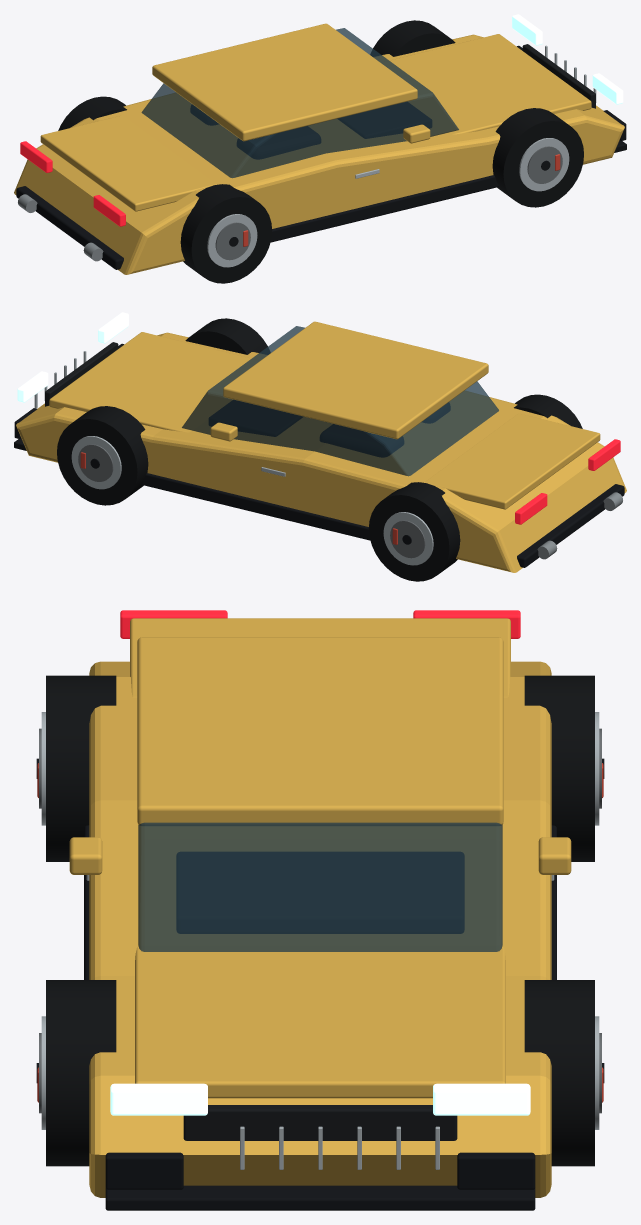
Rendered from lambo_diablo_2000.glb.
The picture shows the model from 3 angles, top to bottom: view 1: azimuth 30°, elevation 25°; view 2: azimuth 150°, elevation 25°; view 3: azimuth 270°, elevation 25°; orthographic projection. The views are drawn at different scales.
Visible parts, largest first — view 1: sculpted_body, roof, glasshouse, hood_center, rear_deck, front_right_wheel_tire, rear_right_wheel_tire, side_skirt_1, dashboard, front_left_wheel_tire, rear_diffuser, seat_1 (+11 smaller); view 2: sculpted_body, roof, glasshouse, hood_center, rear_deck, front_left_wheel_tire, rear_left_wheel_tire, side_skirt_-1, dashboard, front_right_wheel_tire, rear_diffuser, seat_-1 (+11 smaller); view 3: sculpted_body, roof, hood_center, glasshouse, dashboard, front_splitter, front_left_wheel_tire, front_right_wheel_tire, front_grille, rear_left_wheel_tire, rear_right_wheel_tire, rear_deck (+8 smaller).
Part boxes in pixels (x1=…): sculpted_body: x1=14, y1=34, x2=624, y2=274; roof: x1=152, y1=23, x2=417, y2=141; glasshouse: x1=141, y1=28, x2=458, y2=178; hood_center: x1=382, y1=34, x2=591, y2=134; rear_deck: x1=40, y1=115, x2=215, y2=211; front_right_wheel_tire: x1=492, y1=108, x2=583, y2=207; rear_right_wheel_tire: x1=180, y1=184, x2=272, y2=283; side_skirt_1: x1=270, y1=175, x2=499, y2=242; dashboard: x1=338, y1=102, x2=431, y2=138; front_left_wheel_tire: x1=370, y1=20, x2=455, y2=56; rear_diffuser: x1=16, y1=186, x2=123, y2=269; seat_1: x1=237, y1=126, x2=320, y2=158; sculpted_body: x1=16, y1=332, x2=626, y2=572; roof: x1=223, y1=321, x2=488, y2=439; glasshouse: x1=182, y1=326, x2=498, y2=476; hood_center: x1=49, y1=332, x2=258, y2=432; rear_deck: x1=425, y1=413, x2=600, y2=509; front_left_wheel_tire: x1=57, y1=406, x2=148, y2=505; rear_left_wheel_tire: x1=368, y1=482, x2=460, y2=581; side_skirt_-1: x1=141, y1=473, x2=370, y2=540; dashboard: x1=209, y1=400, x2=302, y2=436; front_right_wheel_tire: x1=185, y1=318, x2=270, y2=354; rear_diffuser: x1=517, y1=484, x2=624, y2=567; seat_-1: x1=320, y1=424, x2=403, y2=456; sculpted_body: x1=89, y1=661, x2=551, y2=1197; roof: x1=137, y1=637, x2=503, y2=825; hood_center: x1=135, y1=946, x2=505, y2=1098; glasshouse: x1=138, y1=822, x2=502, y2=951; dashboard: x1=177, y1=852, x2=463, y2=933; front_splitter: x1=105, y1=1185, x2=535, y2=1210; front_left_wheel_tire: x1=524, y1=980, x2=594, y2=1166; front_right_wheel_tire: x1=46, y1=980, x2=116, y2=1166; front_grille: x1=183, y1=1105, x2=457, y2=1140; rear_left_wheel_tire: x1=524, y1=675, x2=594, y2=861; rear_right_wheel_tire: x1=46, y1=675, x2=116, y2=861; rear_deck: x1=130, y1=618, x2=510, y2=697.
Bounding box in the file's own units: 4.78 × 1.1 × 2.25.
